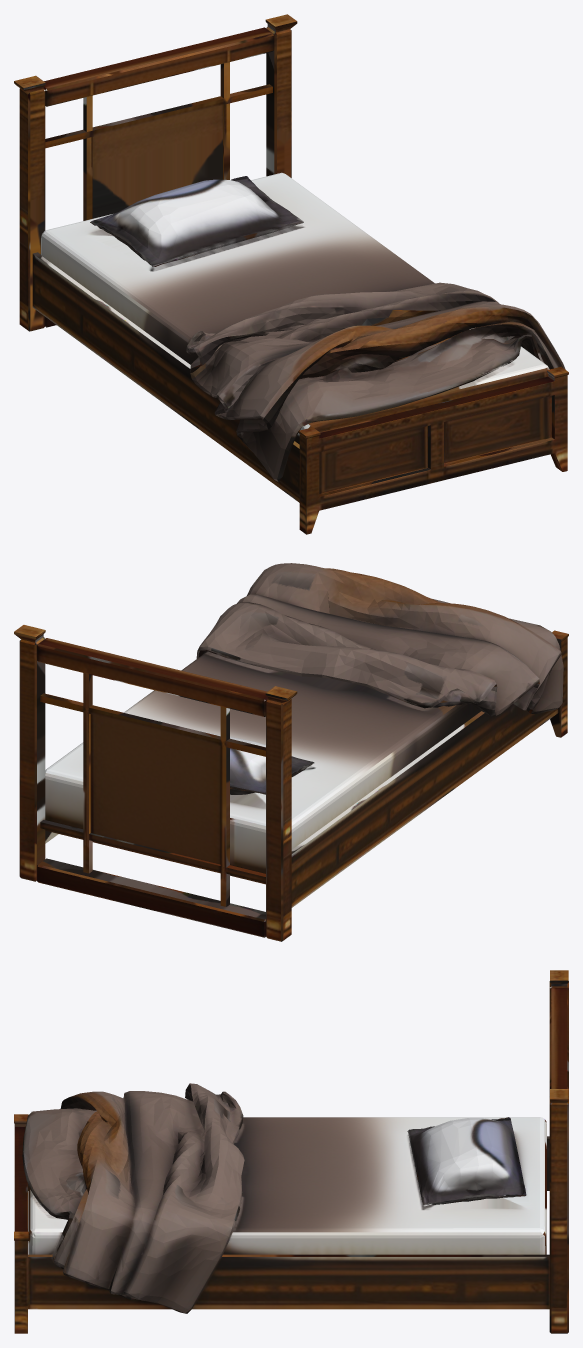
The model's file is edited_mesh.glb.
3 renders of one model, top to bottom at view 1: azimuth 30°, elevation 25°; view 2: azimuth 150°, elevation 25°; view 3: azimuth 270°, elevation 25°, orthographic. The views are drawn at different scales.
Visible parts, largest first — view 1: solid_001_wire; view 2: solid_001_wire; view 3: solid_001_wire.
Part boxes in pixels (x1,y1,x2,y2): solid_001_wire: (14,14,568,534); solid_001_wire: (14,563,568,941); solid_001_wire: (14,970,568,1333).
Bounding box in the file's own units: 1.29 × 0.9447 × 2.
Materials: 1 (1 with a texture image).
